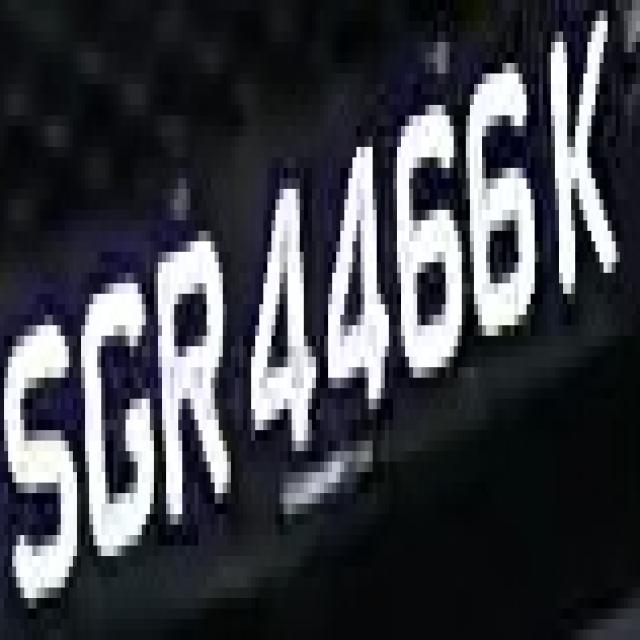4: (304, 116, 389, 462), (231, 147, 320, 462)
6: (450, 21, 542, 336), (389, 73, 470, 378)
G: (69, 262, 162, 598)
K: (543, 0, 628, 325)
R: (150, 210, 231, 524)
S: (4, 273, 81, 629)
